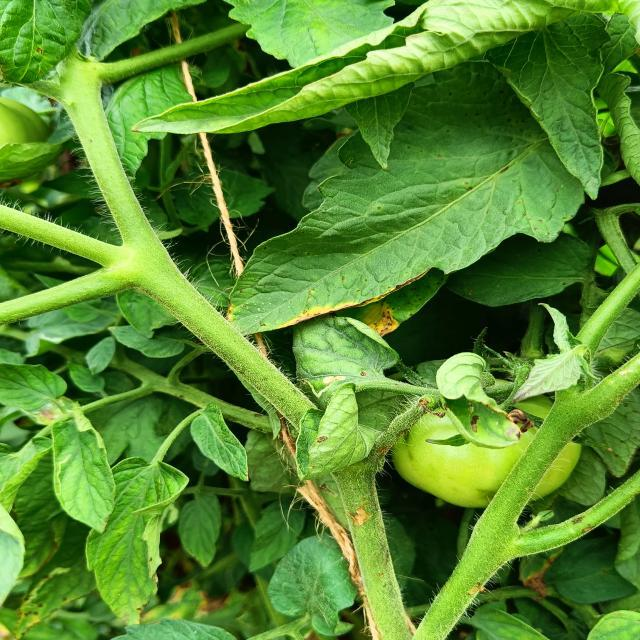Tomato mosaic virus leaf: (286, 261, 454, 345)
